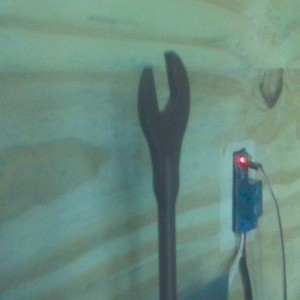spanner: (137, 50, 190, 300)
